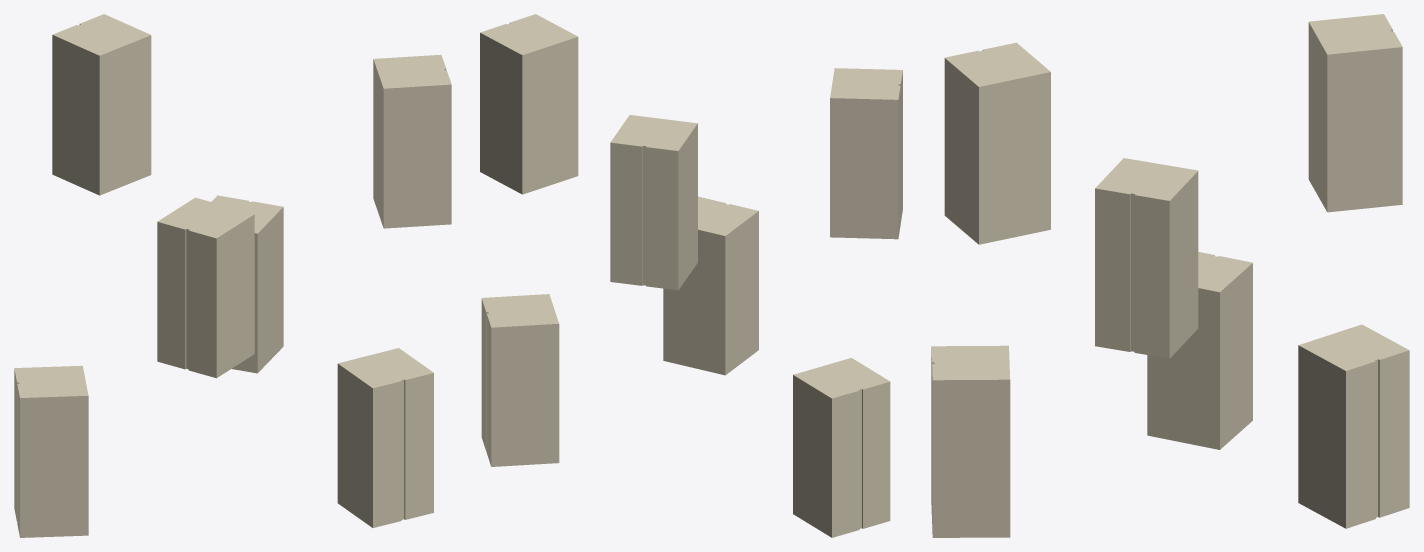
File: almirah.glb
The picture shows the model from 3 angles, left to right: view 1: azimuth 30°, elevation 25°; view 2: azimuth 150°, elevation 25°; view 3: azimuth 270°, elevation 25°; orthographic projection. The views are drawn at different scales.
Parts seen in each view (by area): view 1: almirah.001; view 2: almirah.001; view 3: almirah.001.
Part boxes in pixels (x1=…): almirah.001: x1=14, y1=14, x2=451, y2=537; almirah.001: x1=480, y1=14, x2=902, y2=537; almirah.001: x1=931, y1=14, x2=1409, y2=537.
Bounding box in the file's own units: 4.92 × 4.62 × 4.33.
